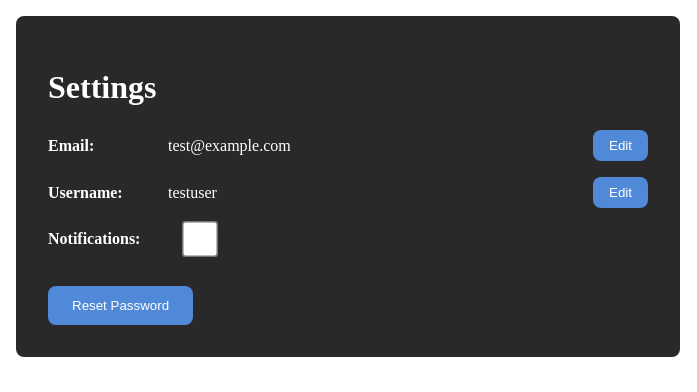
Test: Settings Component › edits the email field
Click the button "Edit" in the row of "test@example.com": (621, 146) [593,130,648,161]
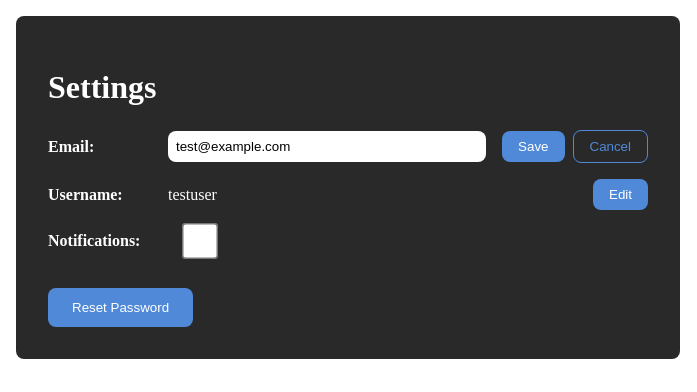
Replace the text in the field with "new@example.com": (327, 147) [168,131,486,162]
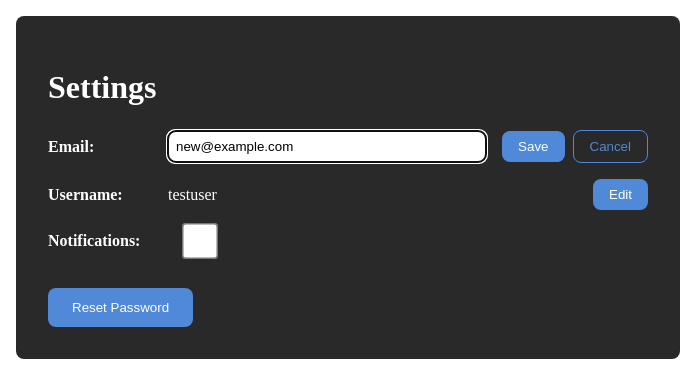
Click the button "Save": (533, 147) [502,131,564,162]
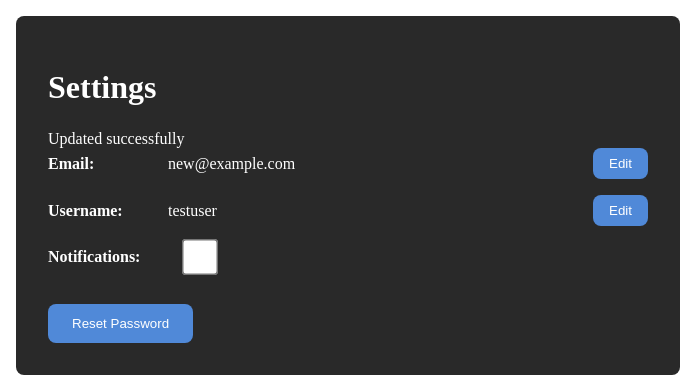
Now the text "new@example.com" is shown, box [168,155,295,172]
